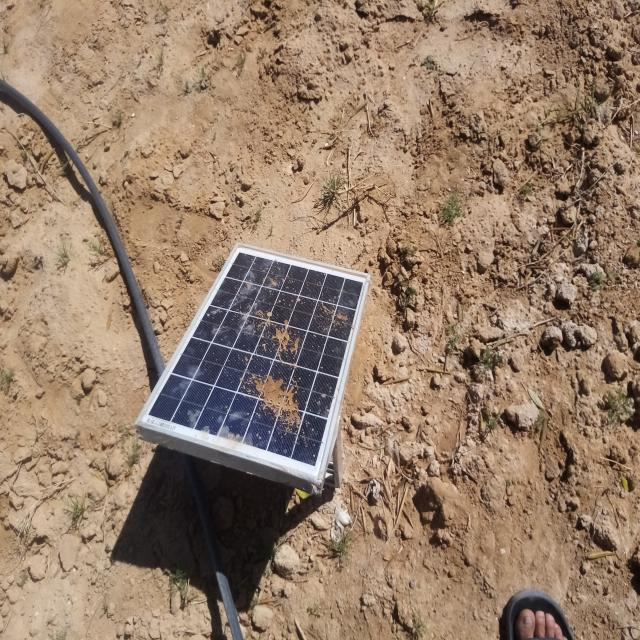faulty: (138, 243, 369, 481)
